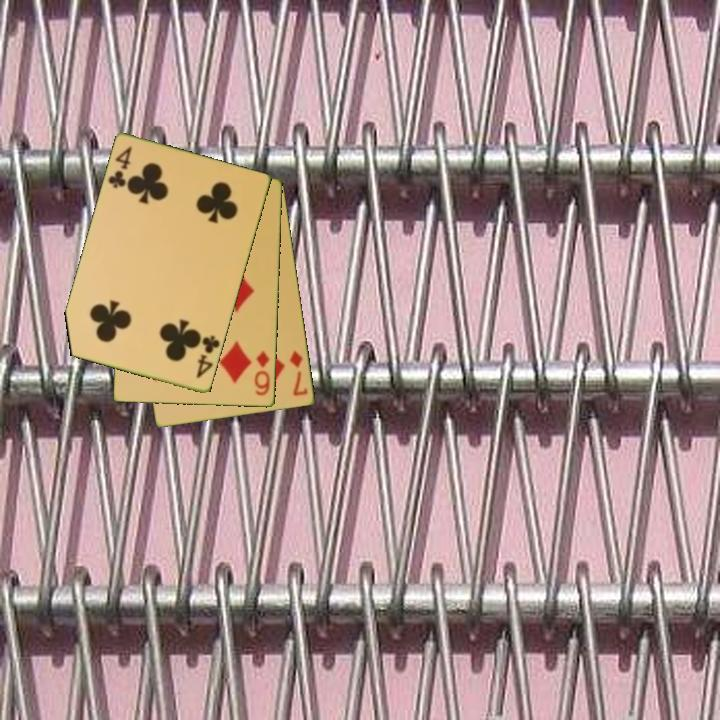4c: (193, 332, 223, 382), (105, 143, 135, 192)
6d: (251, 347, 273, 399)
7d: (286, 348, 311, 399)
